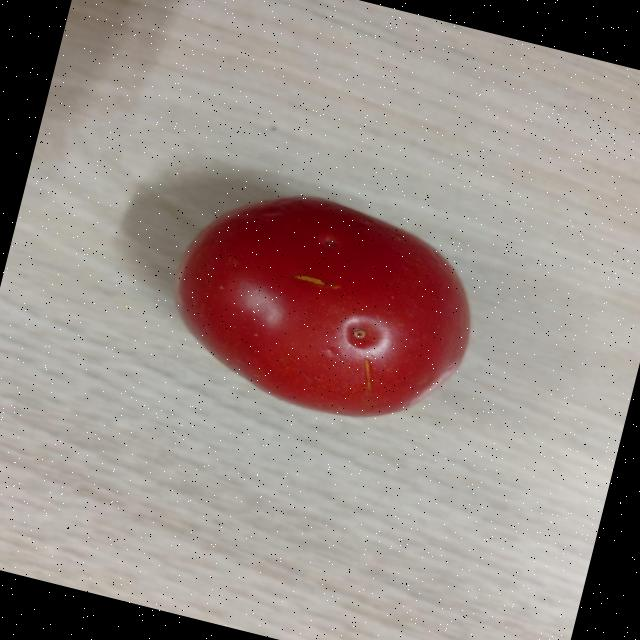Ripe: (150, 163, 498, 446)
